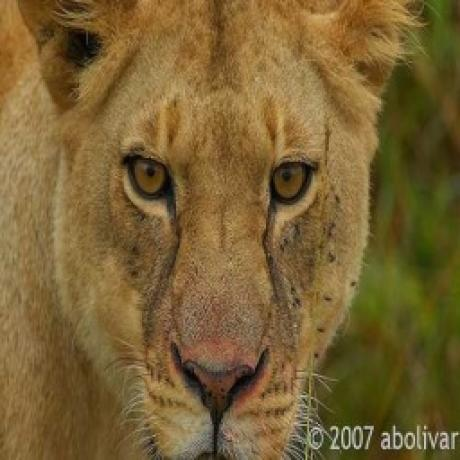Lion: (0, 0, 419, 460)
